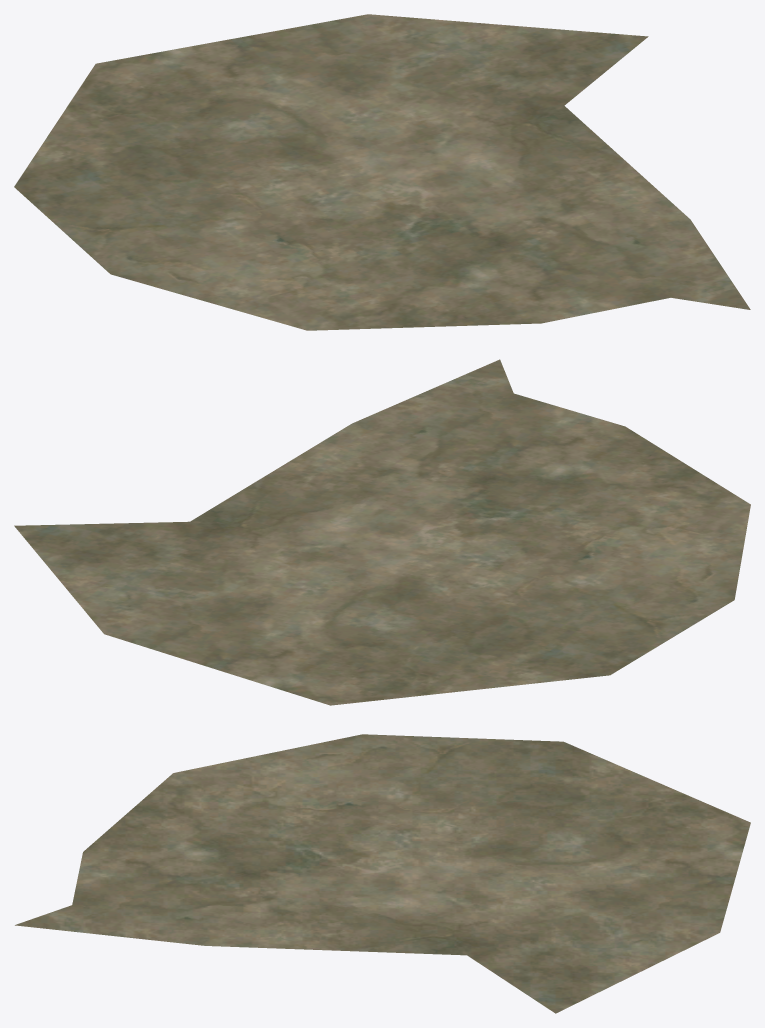
File: OVERHILL_A_01_LINE59.fbx
3 views of the same model, one above another, from view 1: azimuth 30°, elevation 25°; view 2: azimuth 150°, elevation 25°; view 3: azimuth 270°, elevation 25° (orthographic). The views are drawn at different scales.
Parts seen in each view (by area): view 1: OVERHILL_A_01_LINE59; view 2: OVERHILL_A_01_LINE59; view 3: OVERHILL_A_01_LINE59.
Boxes of the visible parts, box(x1,y1,x2,y2) form: OVERHILL_A_01_LINE59: box(14, 14, 750, 330); OVERHILL_A_01_LINE59: box(14, 359, 750, 705); OVERHILL_A_01_LINE59: box(15, 734, 750, 1013).
Size of the model in its own units: 24498 by 10.74 by 27307.
Materials: 1 (1 with a texture image).
